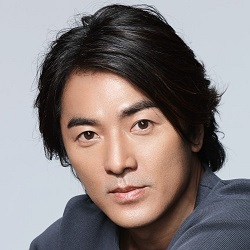unmask: (55, 52, 192, 230)
